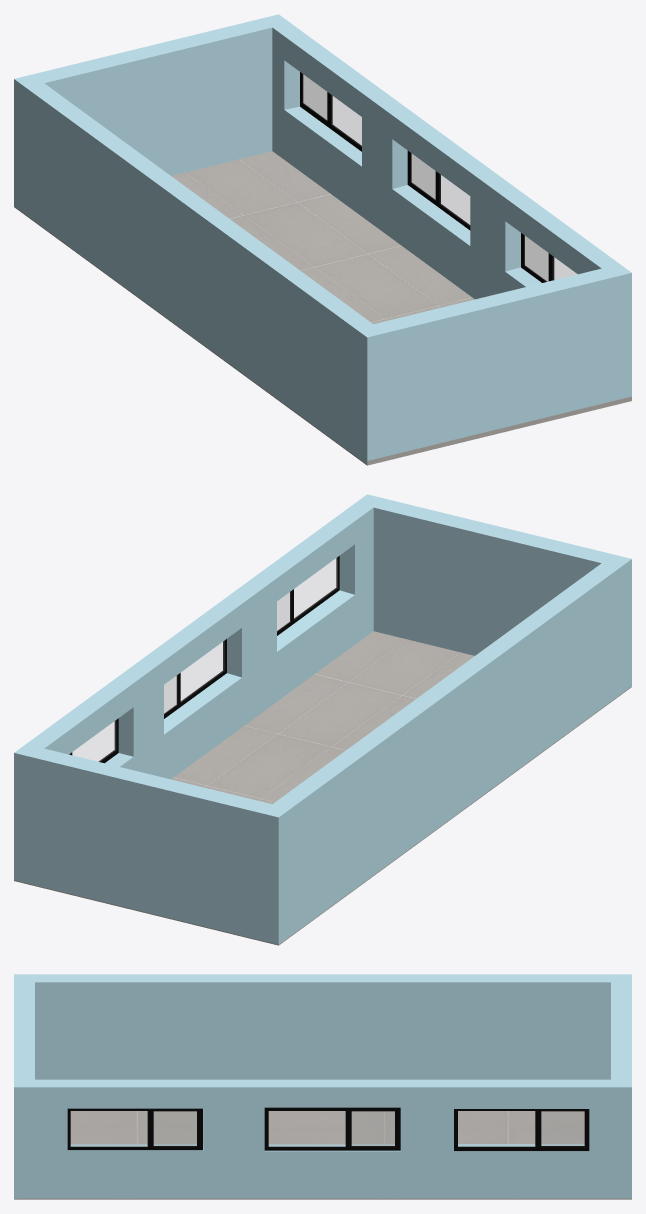
File: ruangan1 (1).fbx
The picture shows the model from 3 angles, top to bottom: view 1: azimuth 30°, elevation 25°; view 2: azimuth 150°, elevation 25°; view 3: azimuth 270°, elevation 25°; orthographic projection. The views are drawn at different scales.
Parts seen in each view (by area): view 1: jendela; view 2: jendela; view 3: jendela.
Part boxes in pixels (left/top/right/bottom): jendela: left=14, top=14, right=631, bottom=465; jendela: left=14, top=494, right=631, bottom=945; jendela: left=14, top=974, right=631, bottom=1199.
Size of the model in its own units: 1900 by 879 by 4390.
4 materials, 1 textured.
